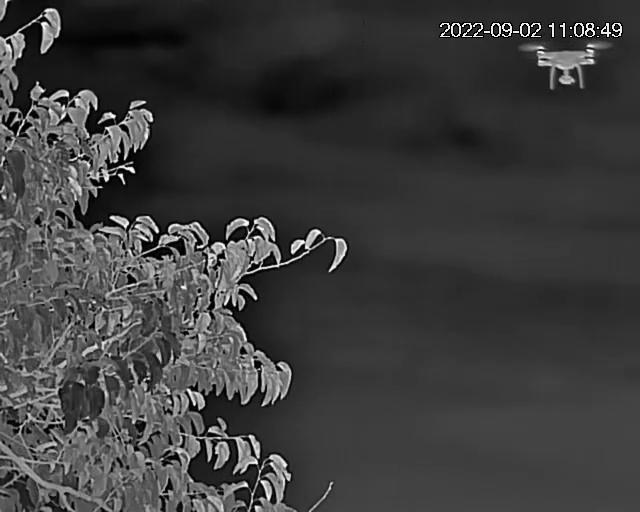DJI-Phantom: (525, 39, 610, 91)
